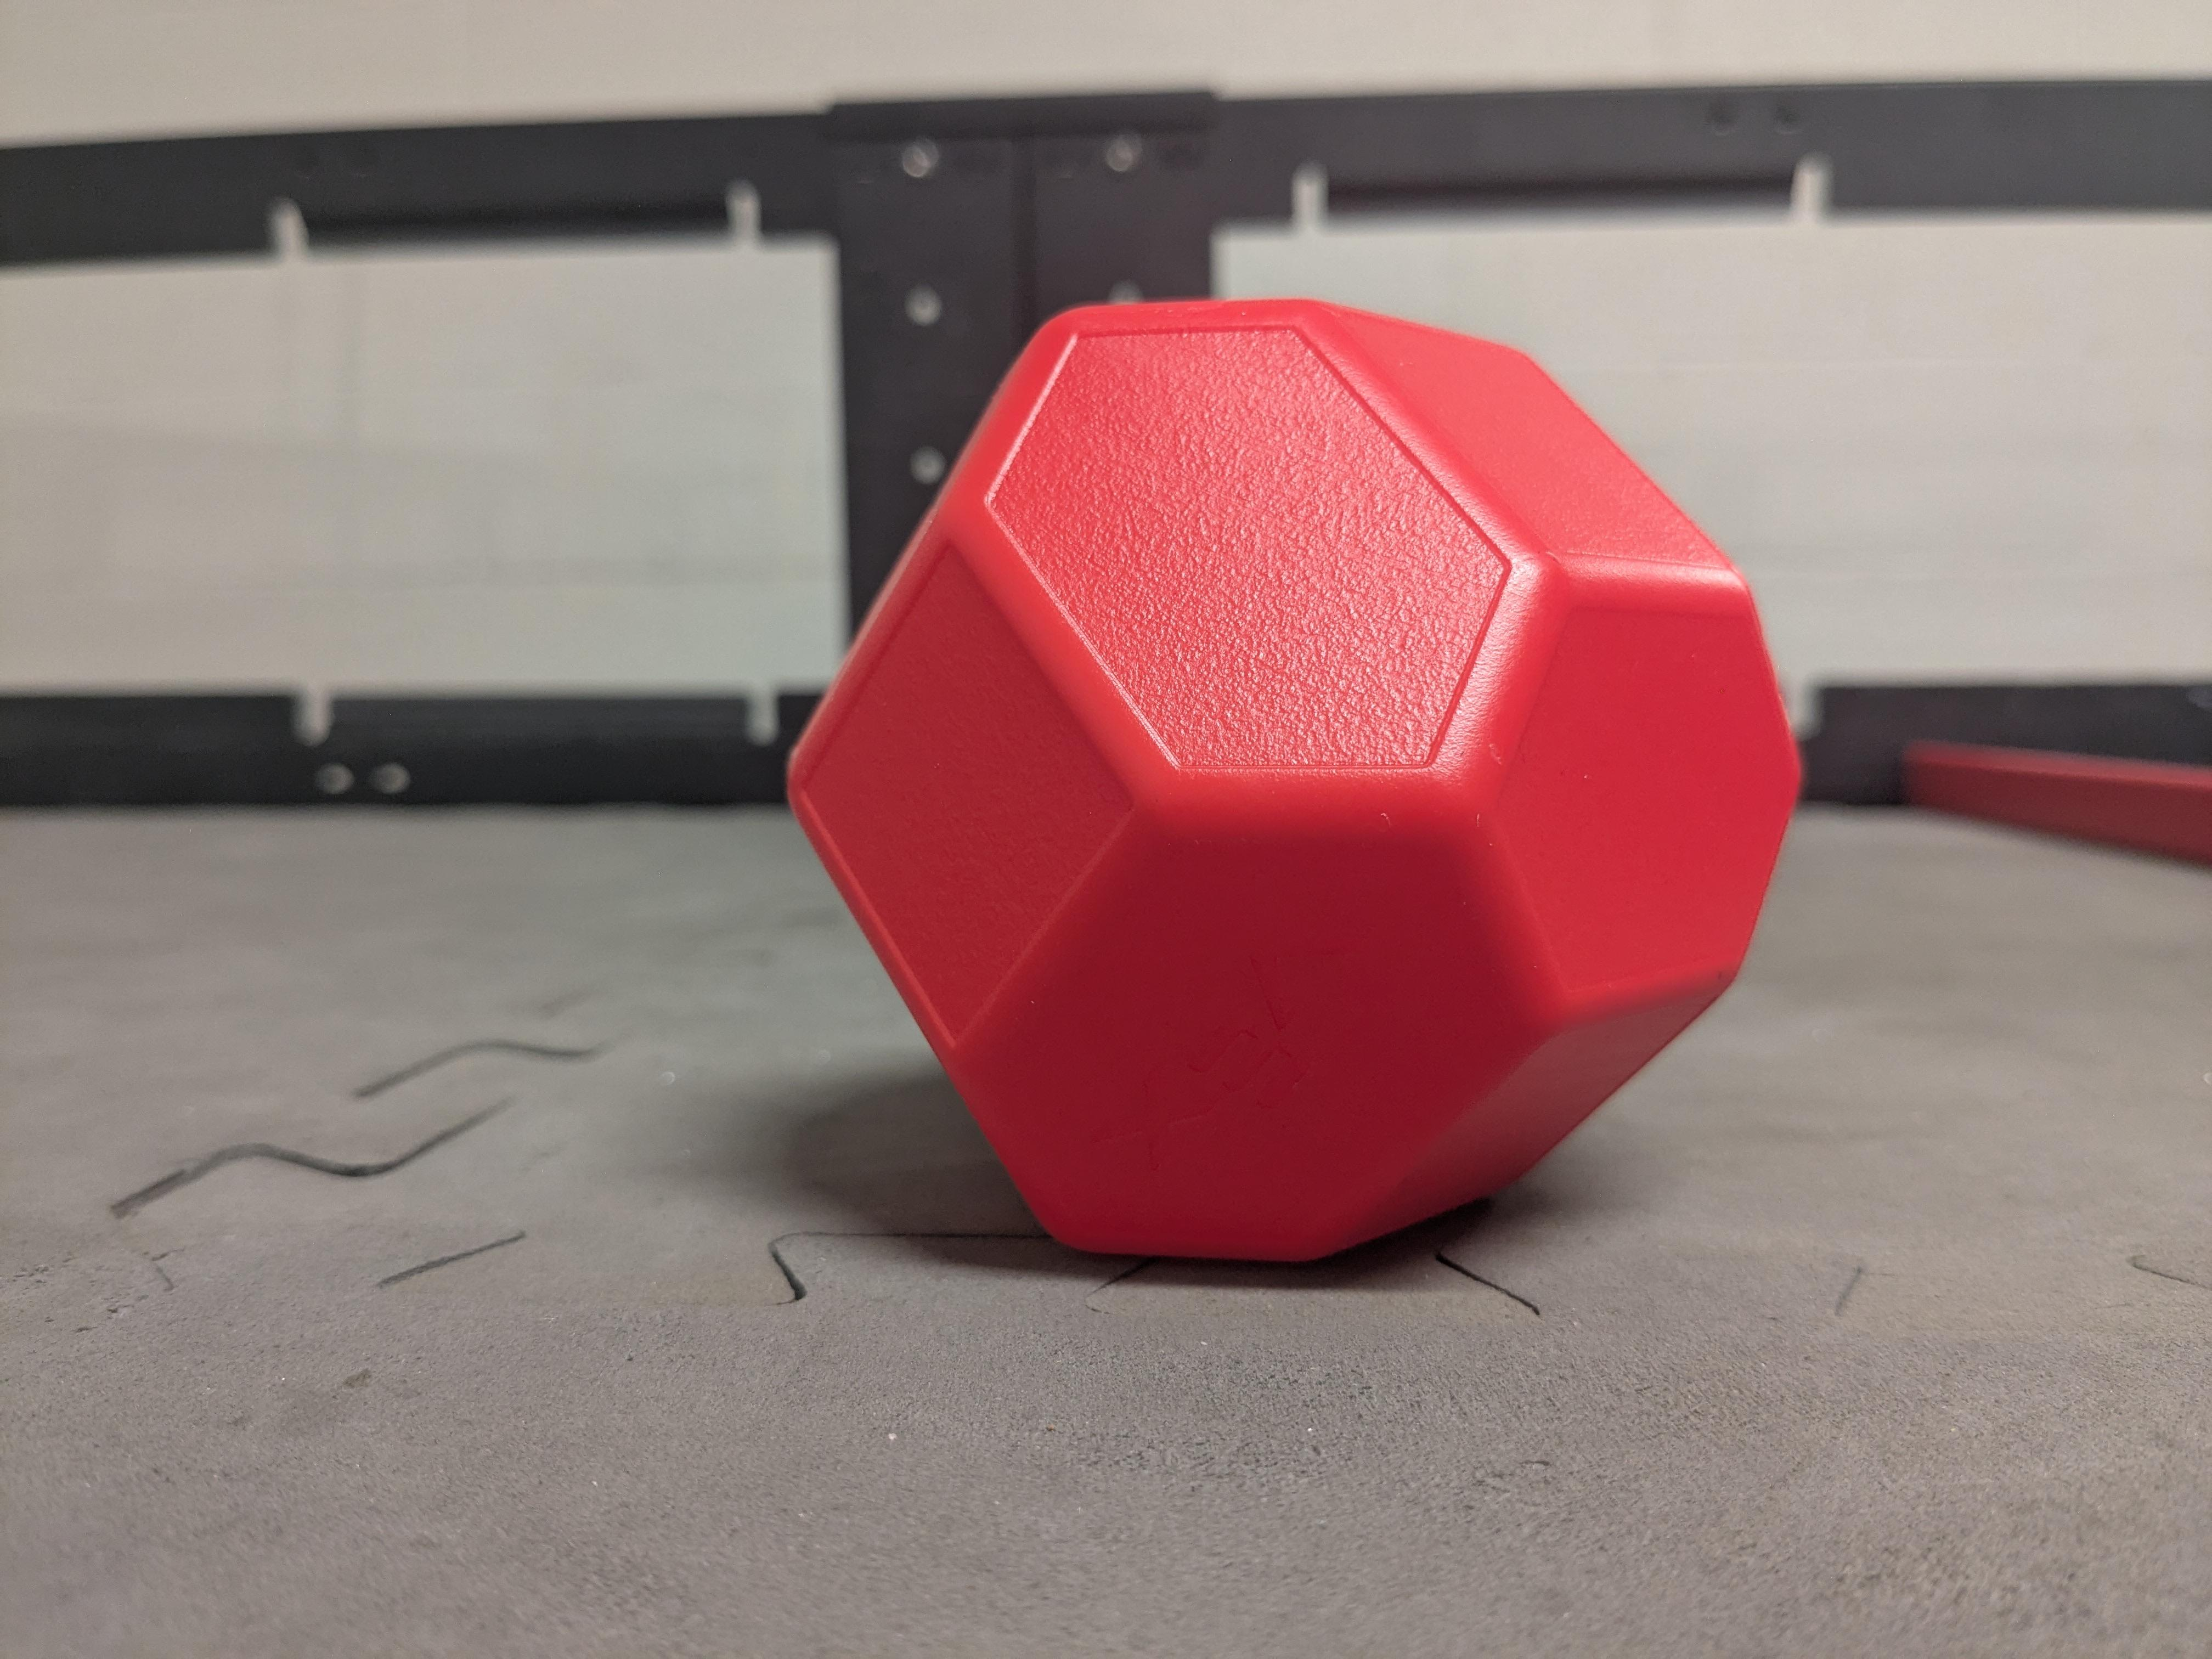Vex-Pieces-RED: (780, 298, 1806, 1249)
